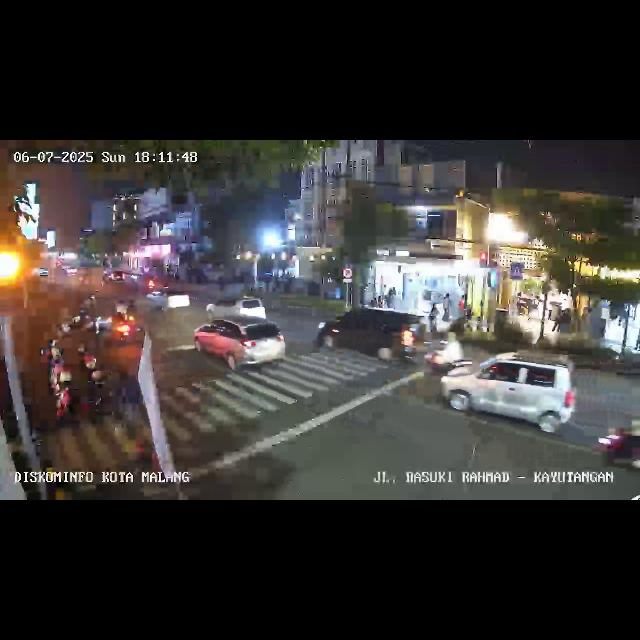car: (438, 352, 576, 438), (310, 307, 424, 369), (194, 312, 288, 373), (206, 294, 266, 320), (144, 286, 192, 314)
motorcycle: (594, 412, 640, 476), (424, 331, 468, 377), (112, 306, 144, 348)
person: (428, 301, 438, 331), (441, 294, 451, 322), (551, 305, 561, 333), (388, 284, 396, 308), (634, 328, 640, 354), (458, 294, 464, 318)
